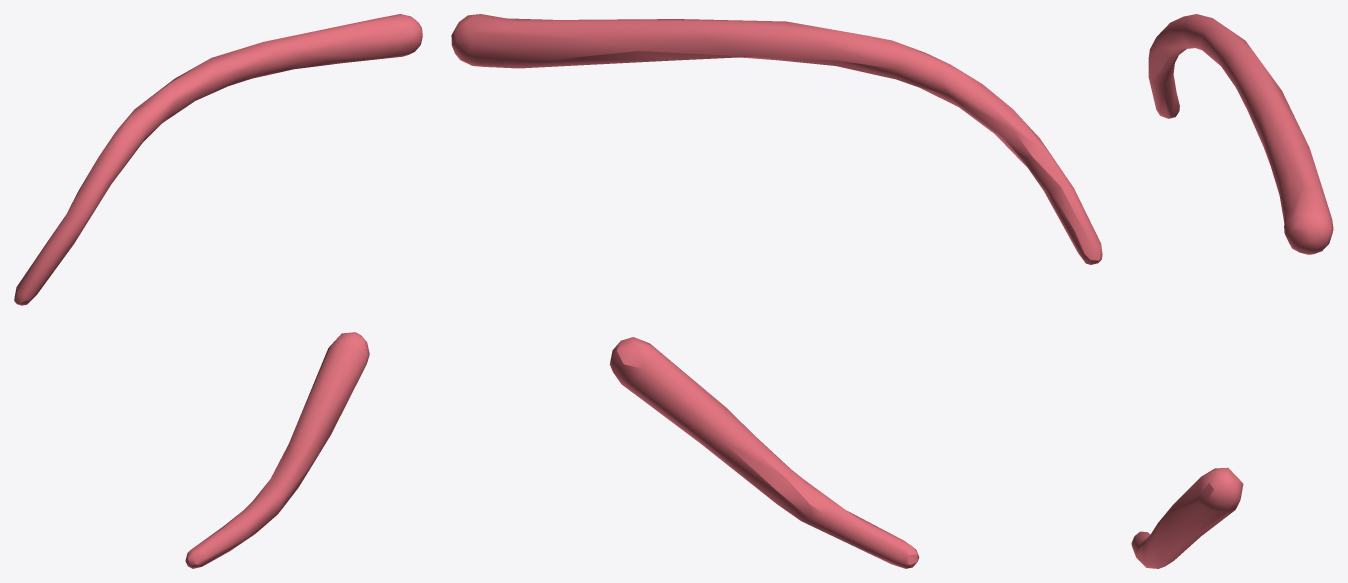
The model's file is fma70489_fj3573.glb.
3 renders of one model, left to right at view 1: azimuth 30°, elevation 25°; view 2: azimuth 150°, elevation 25°; view 3: azimuth 270°, elevation 25°, orthographic. The views are drawn at different scales.
Visible parts, largest first — view 1: FMA70489_FJ3573; view 2: FMA70489_FJ3573; view 3: FMA70489_FJ3573.
Part boxes in pixels (x1,y1,x2,y2): FMA70489_FJ3573: (14, 14, 422, 568); FMA70489_FJ3573: (451, 14, 1102, 568); FMA70489_FJ3573: (1131, 14, 1333, 568).
Bounding box in the file's own units: 0.0122 × 0.0115 × 0.00394.
